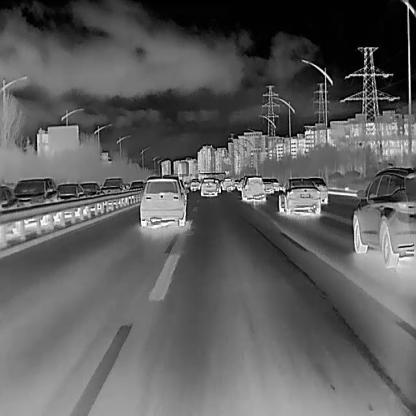car: (351, 166, 415, 269), (138, 176, 186, 228), (278, 178, 320, 214), (10, 177, 60, 206), (240, 175, 266, 201), (56, 182, 86, 203), (0, 183, 18, 212), (308, 177, 328, 203), (78, 180, 103, 200), (99, 176, 125, 195), (200, 177, 218, 197), (129, 180, 144, 194), (235, 176, 248, 191), (261, 177, 273, 193), (222, 177, 233, 190), (270, 176, 279, 191), (190, 178, 200, 189)
